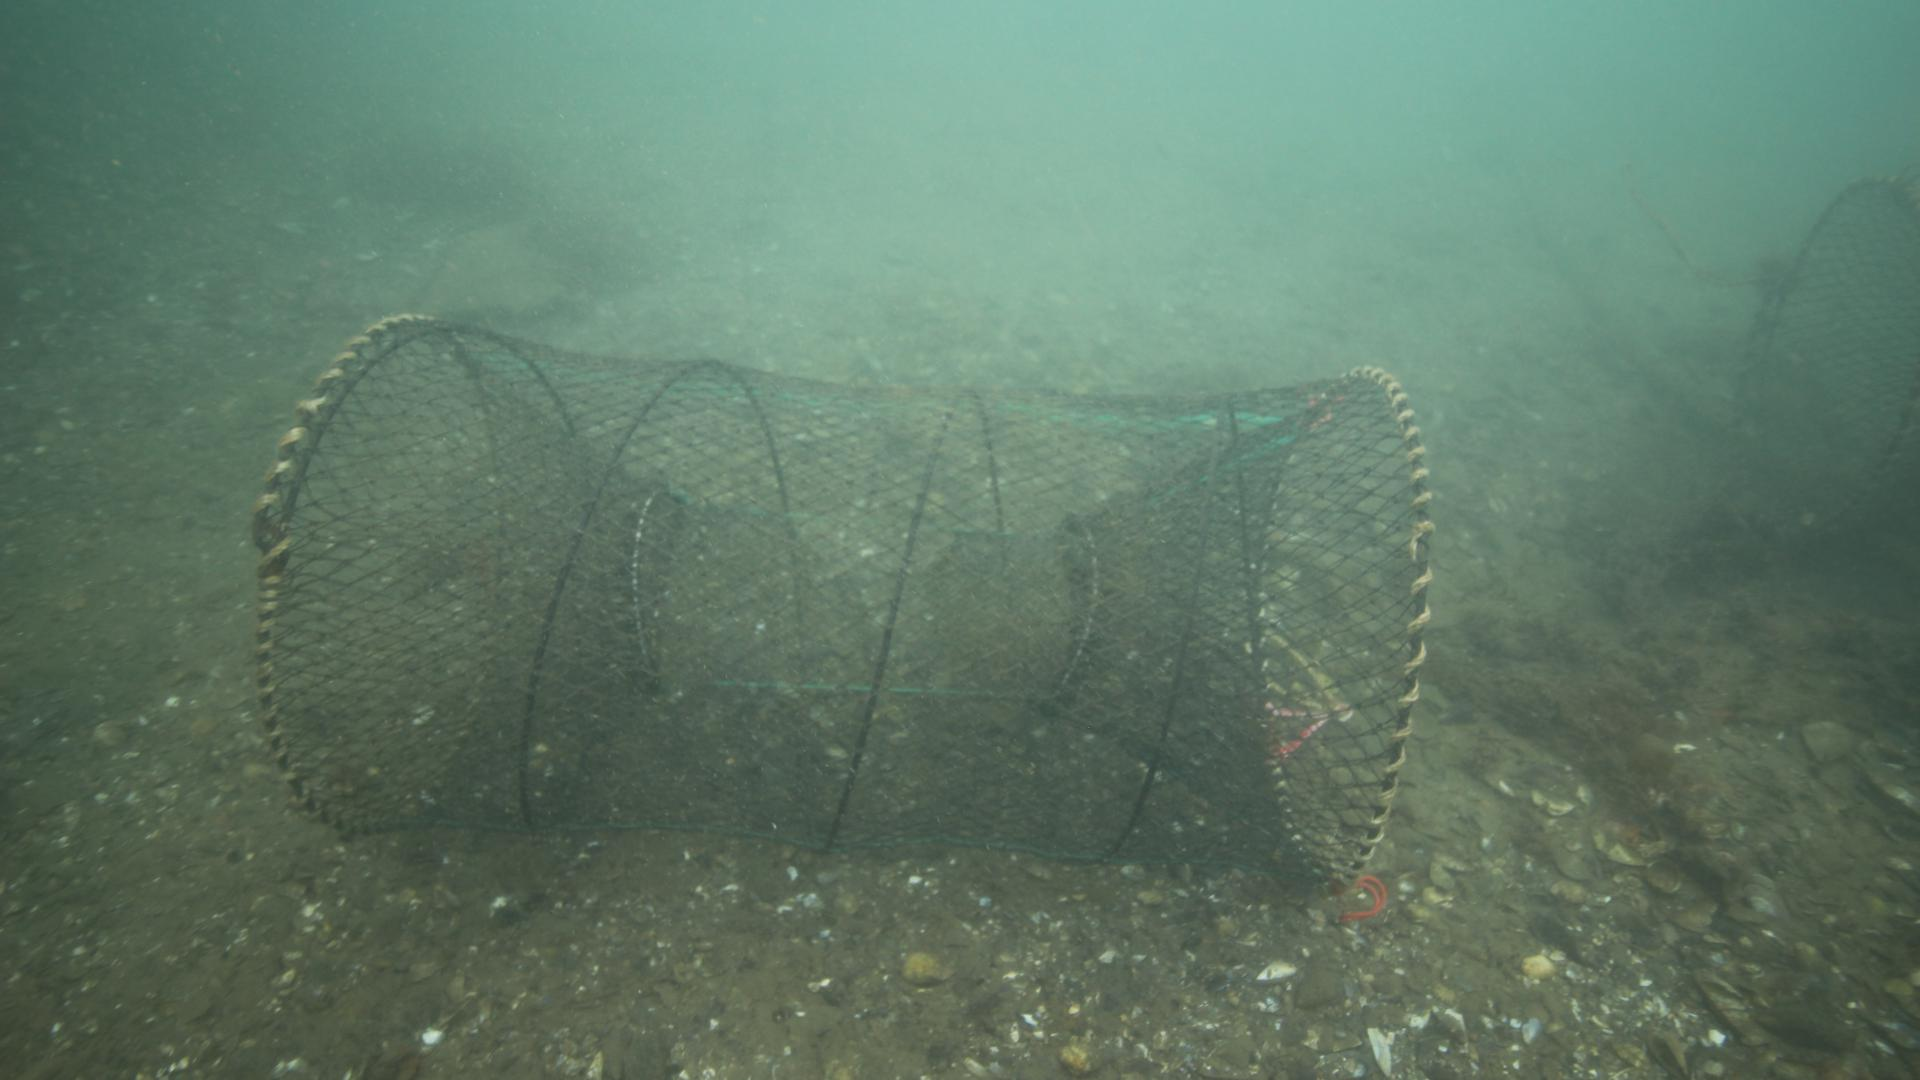spring fish trap: (249, 309, 1431, 905)
